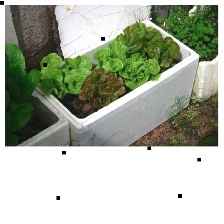foam_box: (24, 16, 202, 146), (159, 4, 218, 104), (5, 72, 72, 146)
